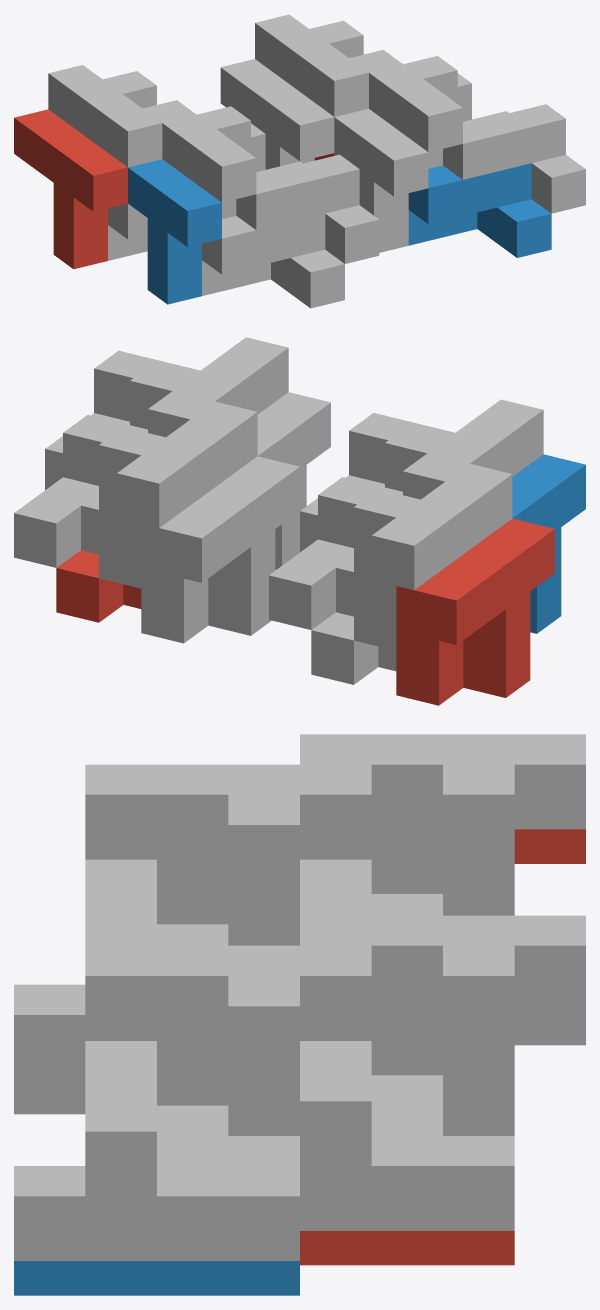
File: tiling.obj
The picture shows the model from 3 angles, top to bottom: view 1: azimuth 30°, elevation 25°; view 2: azimuth 150°, elevation 25°; view 3: azimuth 270°, elevation 25°; orthographic projection. The views are drawn at different scales.
Visible parts, largest first — view 1: copy_1_domain_1, copy_2_domain_6, copy_2_domain_2, copy_1_domain_2, copy_2_domain_4, copy_2_domain_8, copy_1_domain_3, copy_1_domain_7, copy_1_domain_6, copy_1_domain_4, copy_1_domain_8, copy_1_domain_5 (+3 smaller); view 2: copy_1_domain_1, copy_1_domain_5, copy_1_domain_7, copy_1_domain_3, copy_1_domain_4, copy_1_domain_8, copy_2_domain_3, copy_2_domain_7, copy_1_domain_2, copy_1_domain_6, copy_2_domain_1, copy_2_domain_5 (+2 smaller); view 3: copy_2_domain_8, copy_1_domain_8, copy_1_domain_4, copy_1_domain_7, copy_2_domain_7, copy_1_domain_3, copy_2_domain_4, copy_2_domain_6, copy_2_domain_5, copy_2_domain_3, copy_1_domain_5, copy_2_domain_2 (+1 smaller).
Part boxes in pixels (<box>): copy_1_domain_1: <box>14,109,127,269</box>; copy_2_domain_6: <box>408,163,551,257</box>; copy_2_domain_2: <box>202,213,344,308</box>; copy_1_domain_2: <box>128,159,221,304</box>; copy_2_domain_4: <box>236,154,379,263</box>; copy_2_domain_8: <box>443,104,585,213</box>; copy_1_domain_3: <box>48,65,162,167</box>; copy_1_domain_7: <box>255,14,368,116</box>; copy_1_domain_6: <box>334,108,428,252</box>; copy_1_domain_4: <box>142,100,256,219</box>; copy_1_domain_8: <box>349,49,462,168</box>; copy_1_domain_5: <box>220,59,334,169</box>; copy_1_domain_1: <box>396,518,554,705</box>; copy_1_domain_5: <box>141,456,299,643</box>; copy_1_domain_7: <box>99,401,257,588</box>; copy_1_domain_3: <box>354,463,512,650</box>; copy_1_domain_4: <box>385,399,543,499</box>; copy_1_domain_8: <box>130,337,288,437</box>; copy_2_domain_3: <box>269,477,402,629</box>; copy_2_domain_7: <box>14,415,147,567</box>; copy_1_domain_2: <box>512,454,585,633</box>; copy_1_domain_6: <box>257,392,330,569</box>; copy_2_domain_1: <box>311,612,396,684</box>; copy_2_domain_5: <box>56,550,141,622</box>; copy_2_domain_8: <box>14,1041,299,1260</box>; copy_1_domain_8: <box>85,945,371,1135</box>; copy_1_domain_4: <box>85,764,371,945</box>; copy_1_domain_7: <box>300,915,585,1135</box>; copy_2_domain_7: <box>228,1041,514,1230</box>; copy_1_domain_3: <box>300,734,585,915</box>; copy_2_domain_4: <box>14,859,228,1079</box>; copy_2_domain_6: <box>14,1261,299,1295</box>; copy_2_domain_5: <box>300,1231,514,1265</box>; copy_2_domain_3: <box>300,859,442,915</box>; copy_1_domain_5: <box>514,1010,585,1045</box>; copy_2_domain_2: <box>14,1079,85,1114</box>.
Bounding box in the file's own units: 12 × 4 × 8.
